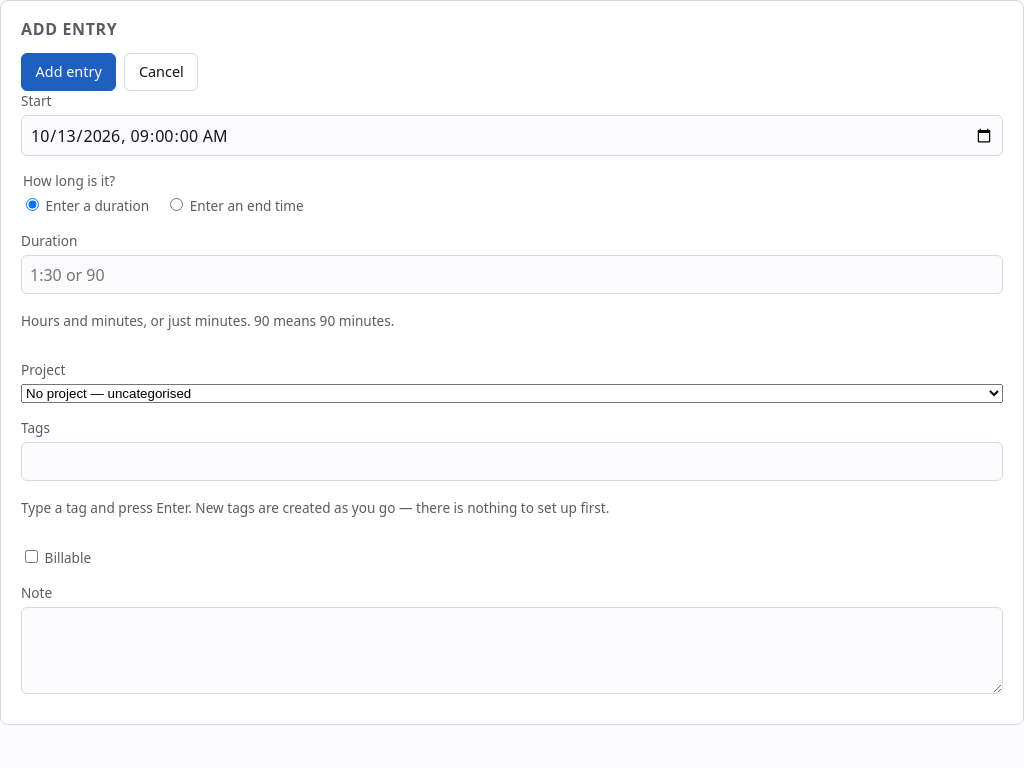
Test: tags (0005 T1–T2) › removes a tag again
Type "research" into the field labelled "Tags" at (512, 461), box x1=21 y1=442 x2=1003 y2=481
Then press Enter
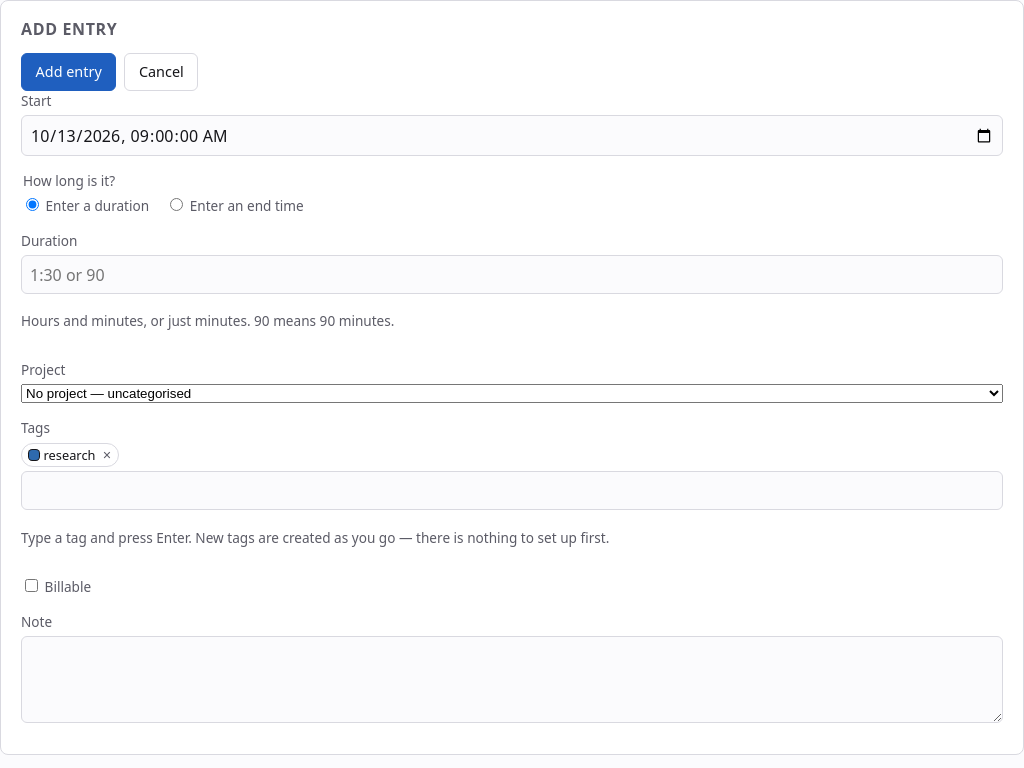
Click the button named "Remove tag research" at (106, 455), box x1=100 y1=448 x2=111 y2=462
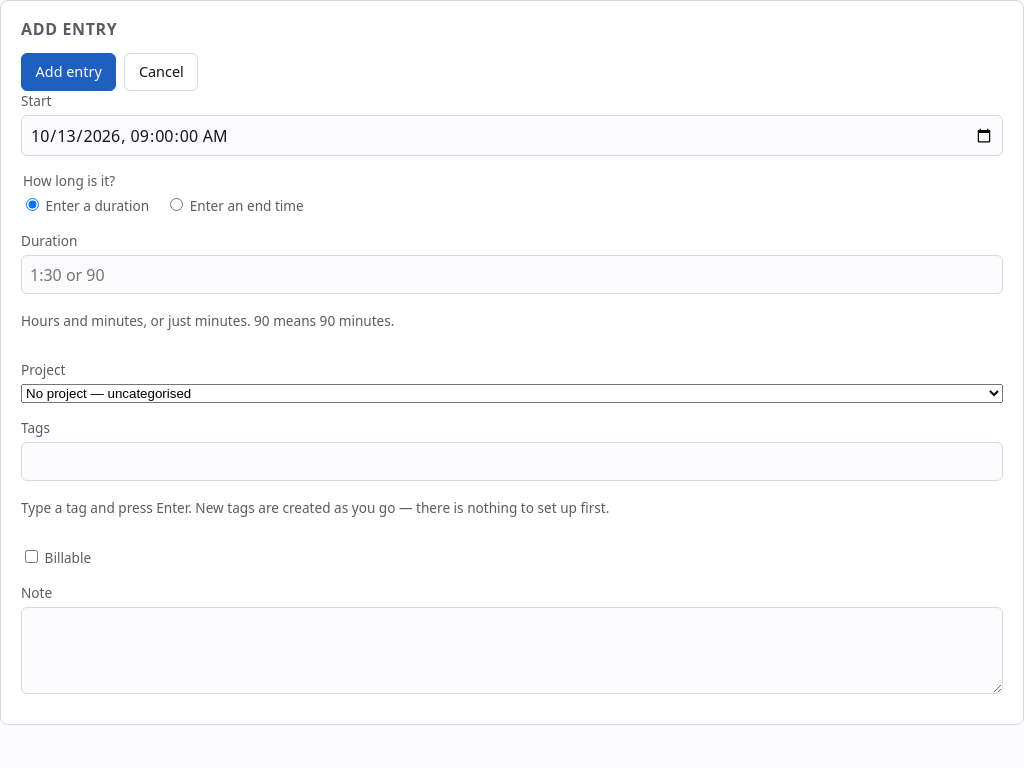
Result: the list with test id "entry-tag-chips" is gone
